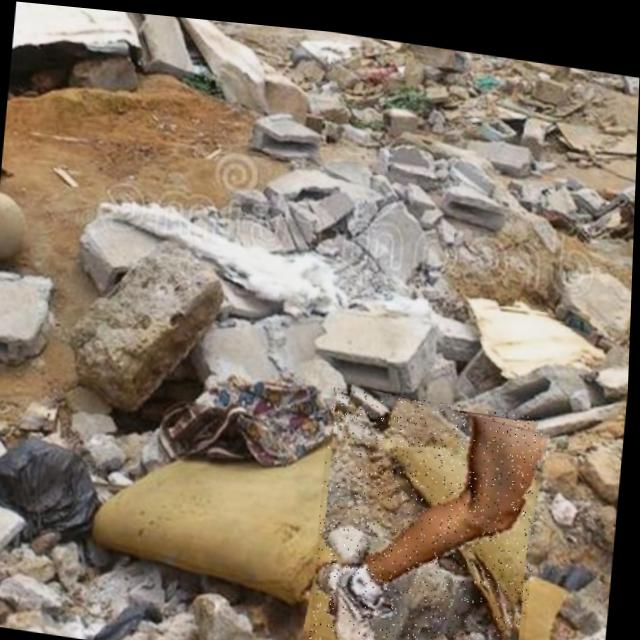Person in Rubble: (313, 378, 548, 640)
